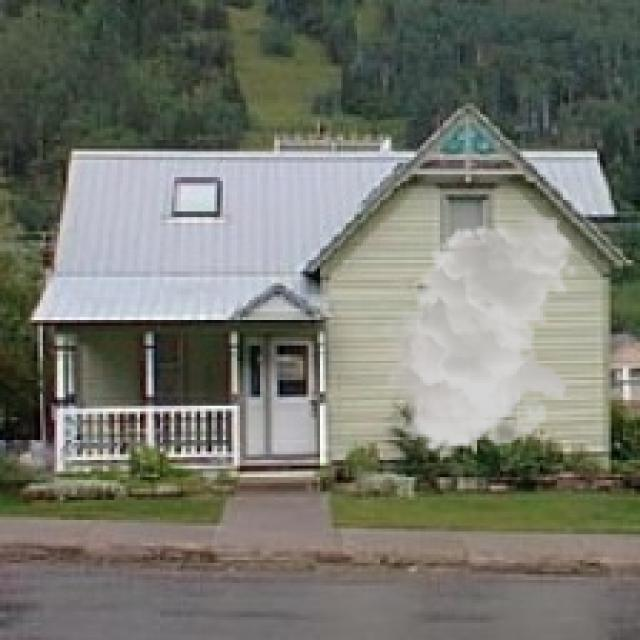Smoke: (377, 215, 580, 454)
